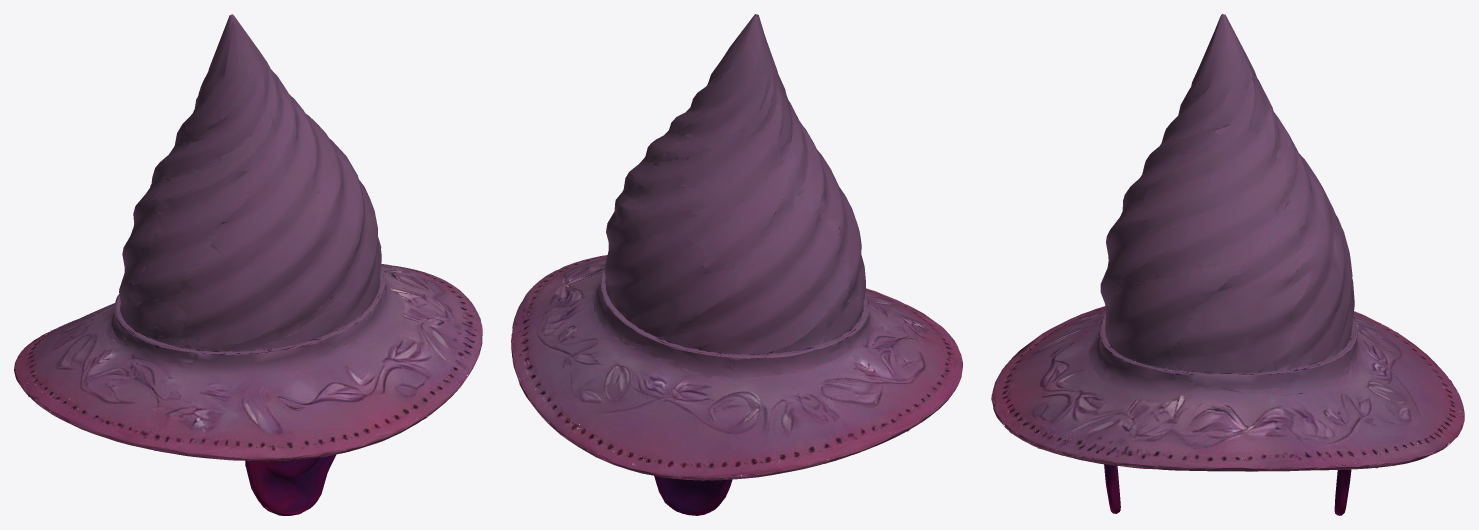
The model's file is ShreffloHelm.glb.
The picture shows the model from 3 angles, left to right: view 1: azimuth 30°, elevation 25°; view 2: azimuth 150°, elevation 25°; view 3: azimuth 270°, elevation 25°; orthographic projection. The views are drawn at different scales.
Parts seen in each view (by area): view 1: node_0; view 2: node_0; view 3: node_0.
Part boxes in pixels (<box>): node_0: <box>14,14,482,515</box>; node_0: <box>511,14,962,515</box>; node_0: <box>991,14,1464,515</box>.
Bounding box in the file's own units: 1.01 × 1.11 × 0.9701.
Materials: 1 (1 with a texture image).
